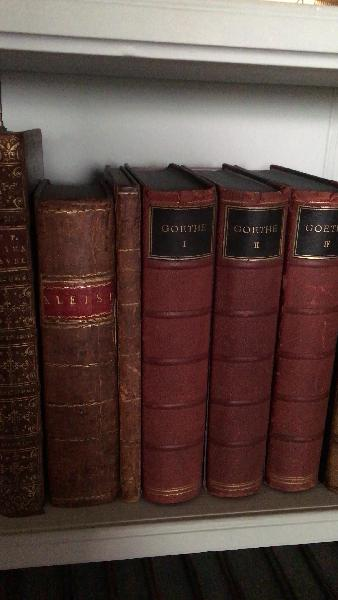Aa6-10: (115, 184, 143, 500)
Aa6-11_13: (143, 189, 338, 502)
Aa6-8: (3, 122, 47, 521)
Aa6-9: (29, 192, 117, 506)
